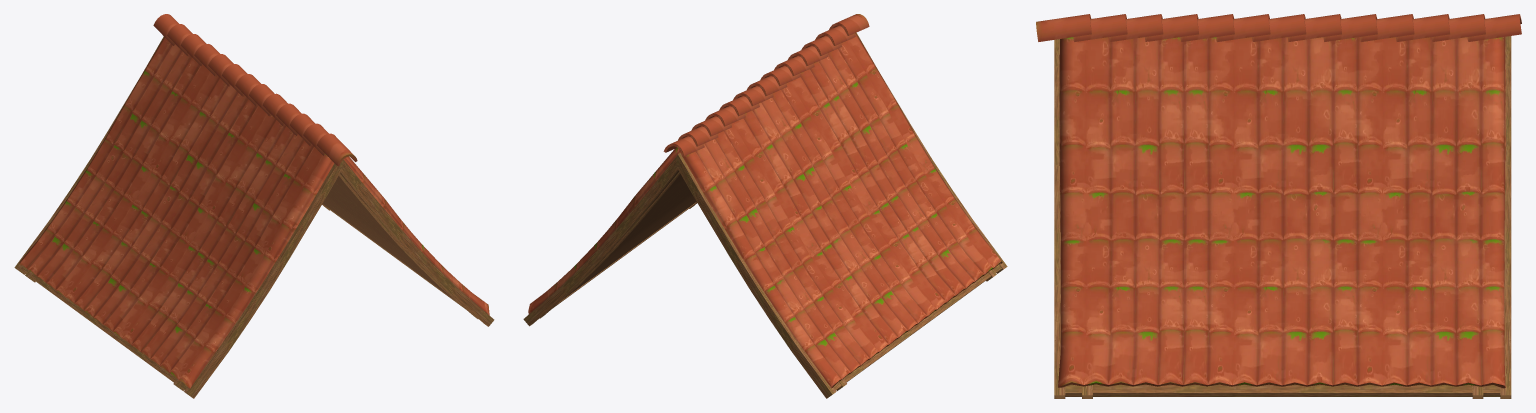
The model's file is Roof_RoundTiles_8x8.gltf.
The picture shows the model from 3 angles, left to right: view 1: azimuth 30°, elevation 25°; view 2: azimuth 150°, elevation 25°; view 3: azimuth 270°, elevation 25°; orthographic projection. The views are drawn at different scales.
Visible parts, largest first — view 1: Roof_RoundTiles_8x8; view 2: Roof_RoundTiles_8x8; view 3: Roof_RoundTiles_8x8.
Part boxes in pixels (bbox=[...]): Roof_RoundTiles_8x8: bbox=[14, 14, 494, 398]; Roof_RoundTiles_8x8: bbox=[523, 14, 1007, 398]; Roof_RoundTiles_8x8: bbox=[1036, 14, 1521, 398].
Size of the model in its own units: 9.95 by 6.78 by 10.33.
2 materials, 2 textured.
